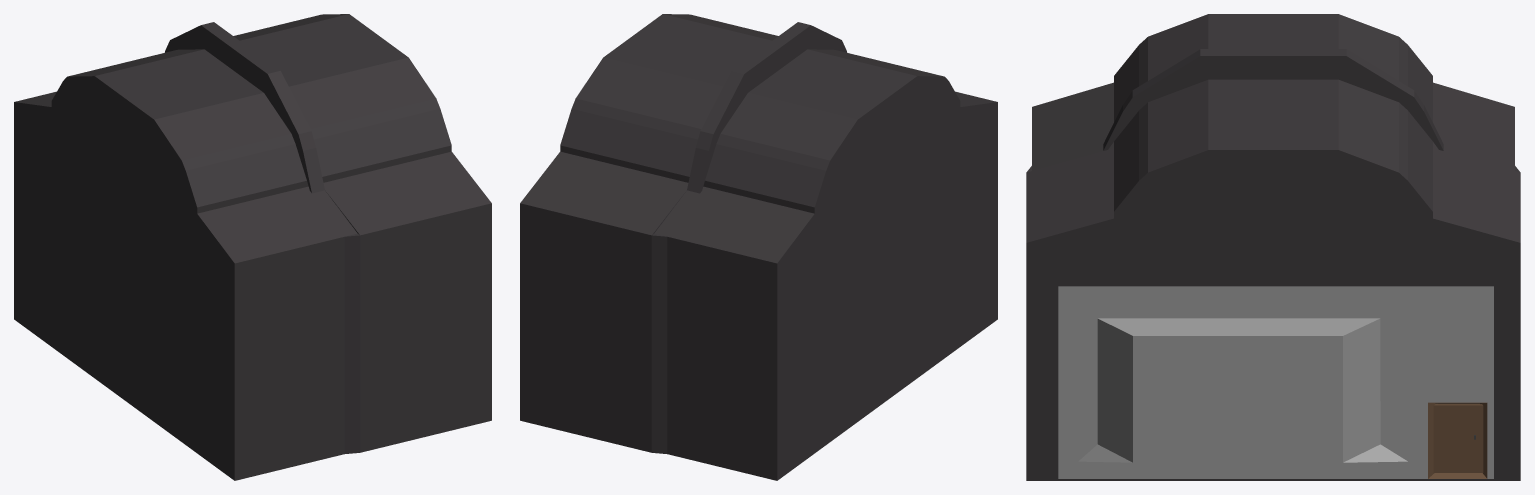
The model's file is Shop.fbx.
3 views of the same model, side by side, from view 1: azimuth 30°, elevation 25°; view 2: azimuth 150°, elevation 25°; view 3: azimuth 270°, elevation 25° (orthographic). The views are drawn at different scales.
Visible parts, largest first — view 1: Building; view 2: Building; view 3: Building, Door.
Part boxes in pixels (x1,y1,x2,y2): Building: (14,14,491,480); Building: (520,14,997,480); Building: (1026,14,1520,480); Door: (1433,404,1483,472).
Size of the model in its own units: 1317 by 1414 by 1787.
